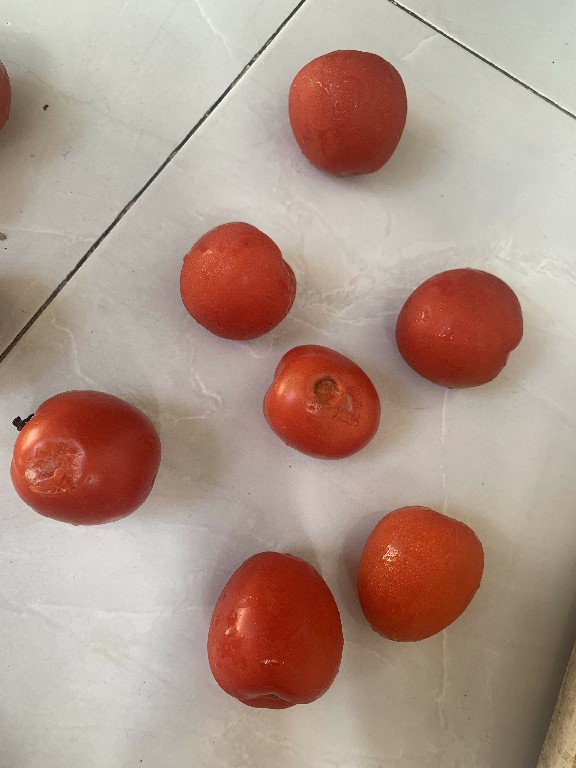NG: (5, 379, 178, 531), (264, 344, 400, 474)
OK: (204, 534, 357, 716), (271, 43, 430, 187), (391, 246, 537, 402), (351, 493, 496, 650), (167, 210, 306, 347)
